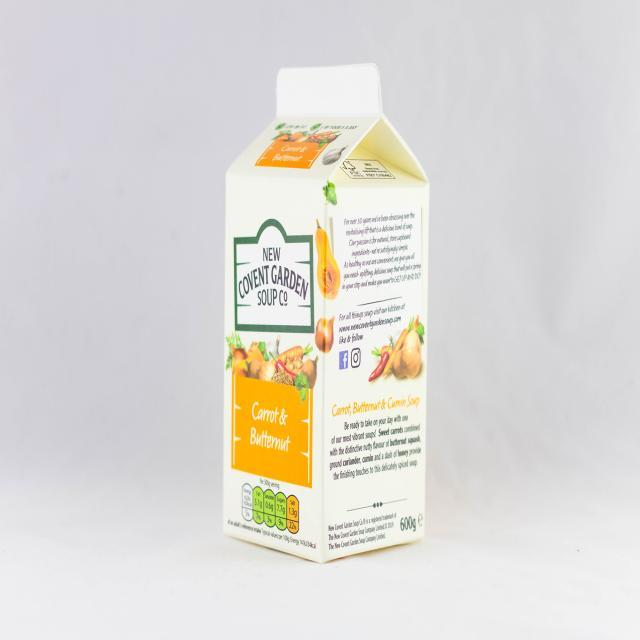Carton: (218, 46, 440, 580)
